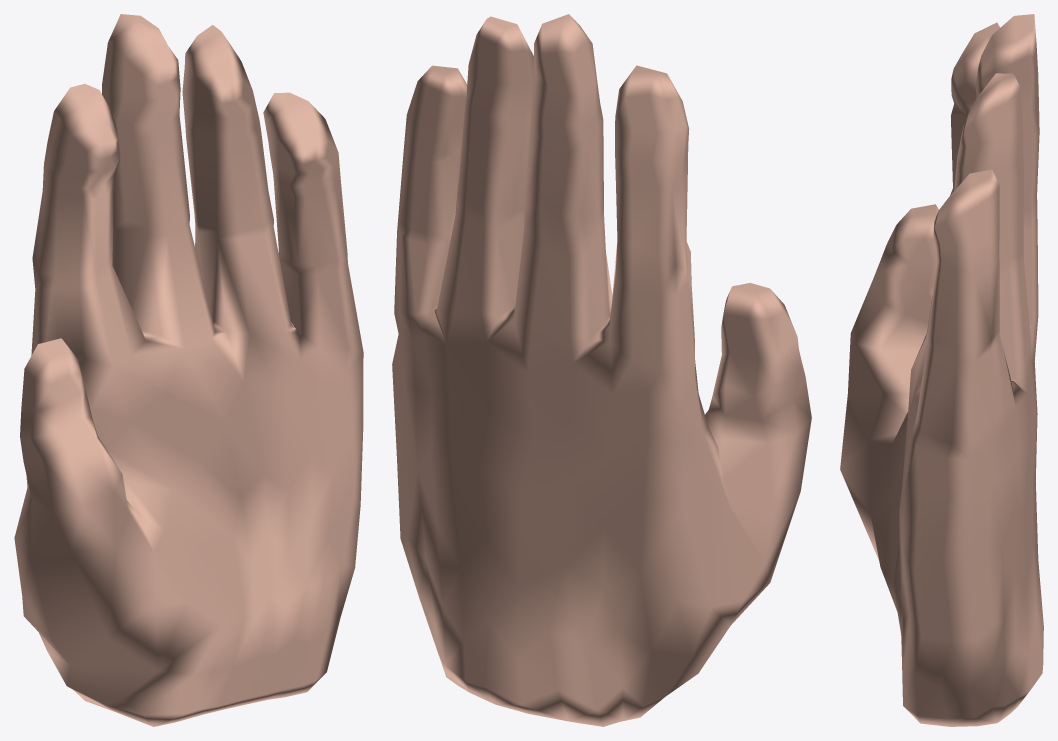
File: MAO_ESTICADA.obj
3 views of the same model, side by side, from view 1: azimuth 30°, elevation 25°; view 2: azimuth 150°, elevation 25°; view 3: azimuth 270°, elevation 25° (orthographic). The views are drawn at different scales.
Visible parts, largest first — view 1: mao_dir polySurface1; view 2: mao_dir polySurface1; view 3: mao_dir polySurface1.
Boxes of the visible parts, x1,y1,x2,y2 form: mao_dir polySurface1: (14, 14, 363, 726); mao_dir polySurface1: (392, 14, 811, 726); mao_dir polySurface1: (840, 14, 1043, 726).
Bounding box in the file's own units: 135 × 243 × 68.95.
